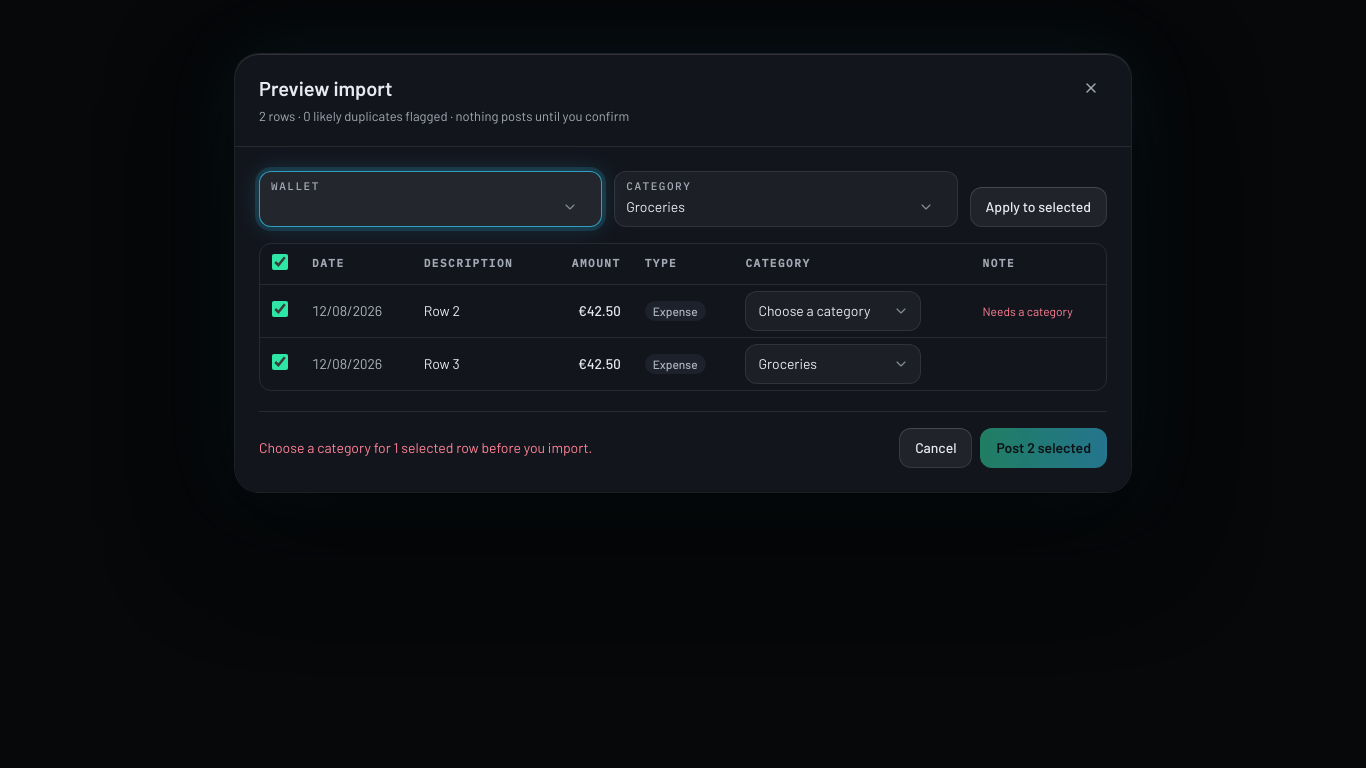
it: CsvPreviewModal rows that need a category › a row left out of the import does not block it, but stays flagged
Click the checkbox named "Select row 2". click: (280, 309)
box: [272,301,288,317]
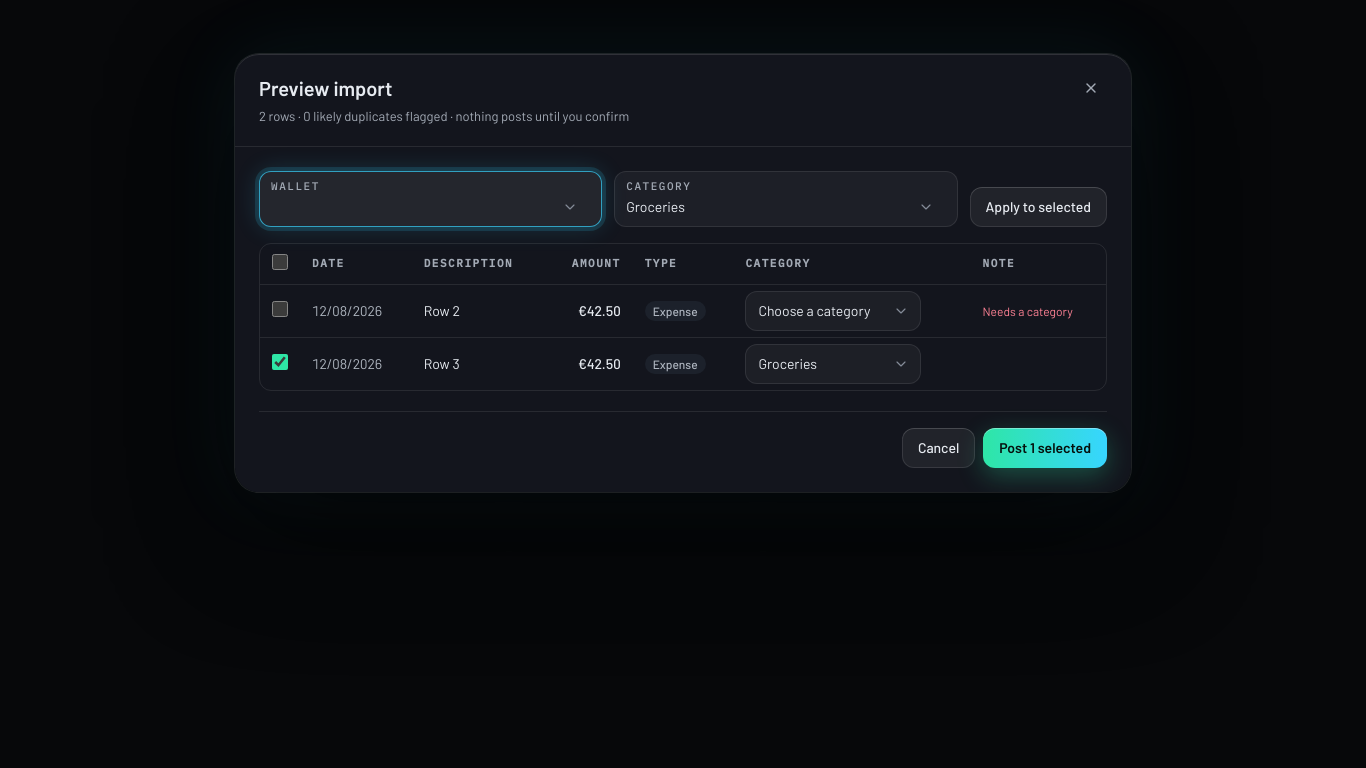
Check: the text "Needs a category" is shown, box [982,304,1073,318]
Check: the button "Post 1 selected" is enabled, box [983,428,1107,468]
